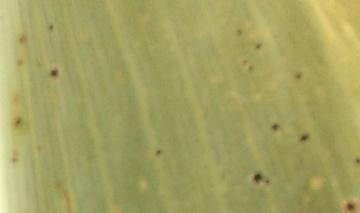tarspot: (48, 67, 60, 78), (152, 146, 162, 157), (252, 172, 262, 183), (346, 201, 357, 210), (14, 116, 22, 128), (270, 123, 280, 131), (254, 41, 262, 51), (299, 135, 310, 142), (247, 62, 254, 73), (235, 27, 242, 37), (19, 36, 26, 46), (264, 176, 272, 184), (17, 59, 26, 66), (47, 24, 55, 31), (296, 73, 302, 80), (355, 158, 360, 165)
